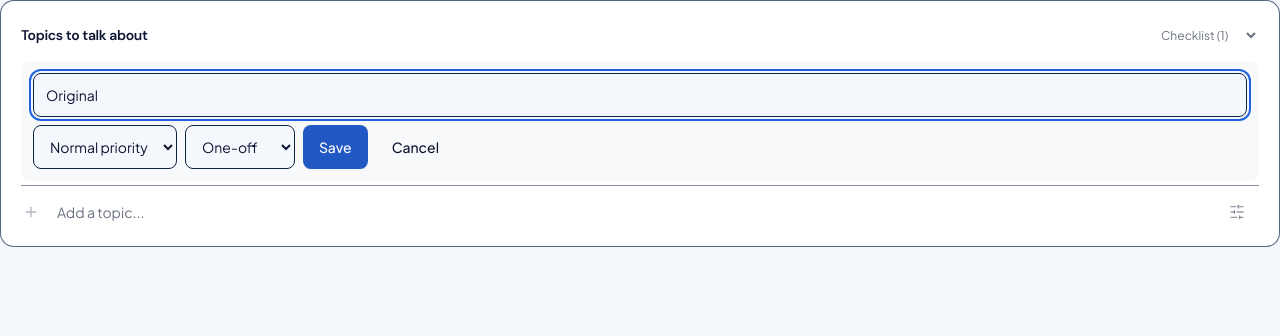
Test case: topics panel › edits title, priority, and repetition without losing failed edits
Earlier steps of the test are not shown.
Replace the text in the field named "Edit topic title" with "Updated" at (640, 95), box [33,73,1247,117]
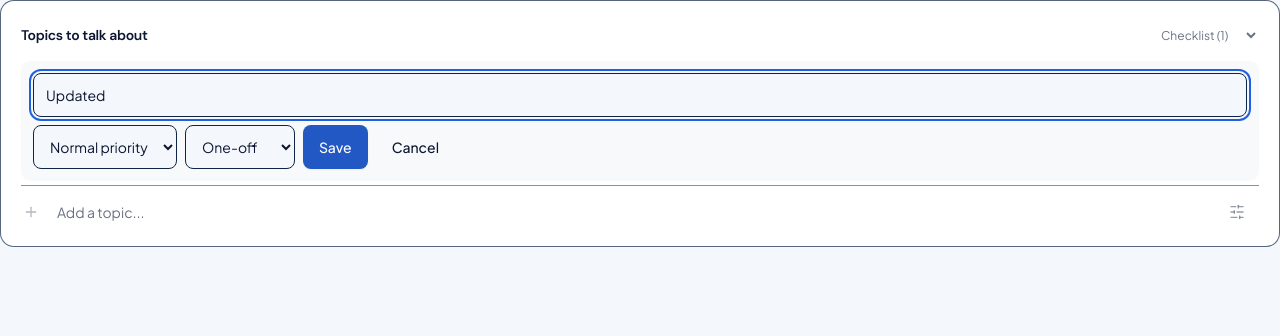
Select "High priority" in the dropdown named "Edit priority" at (105, 147), box [33,125,177,169]
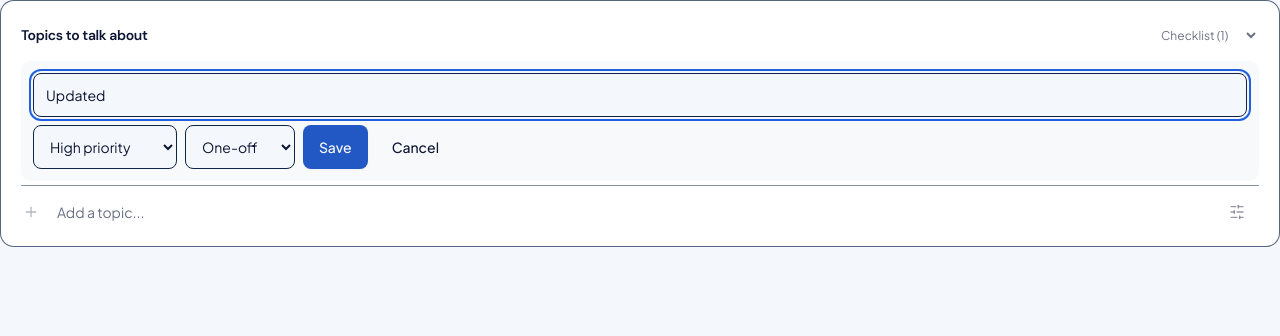
Select "Recurring" in the dropdown named "Edit repetition" at (240, 147), box [185,125,295,169]
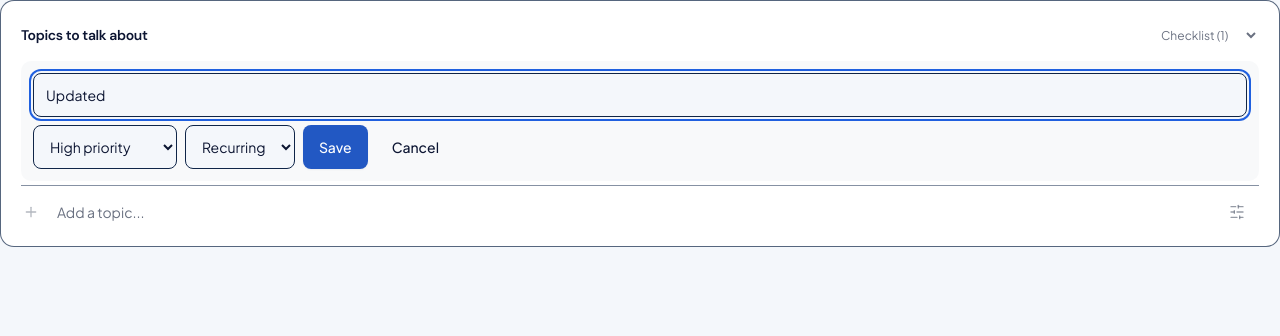
Click the button "Save" at (335, 147), box [303,125,368,169]
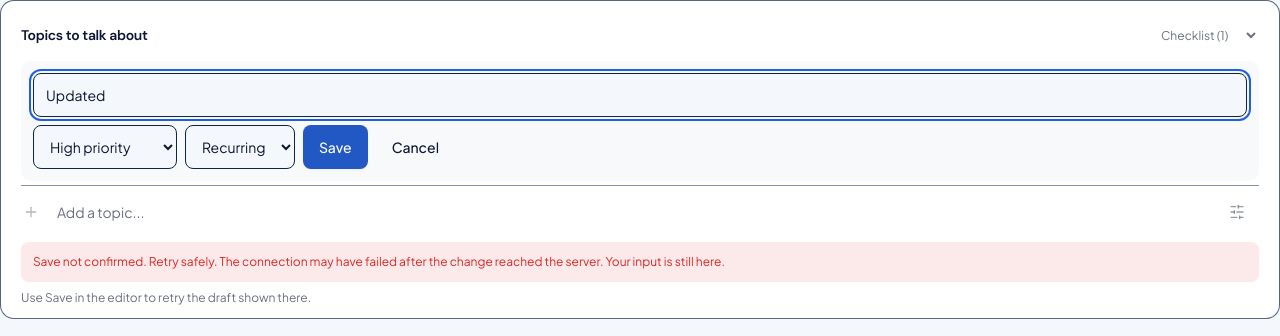
expect the message is shown: met, box [21,242,1259,282]
Click the button "Save" at (335, 147), box [303,125,368,169]
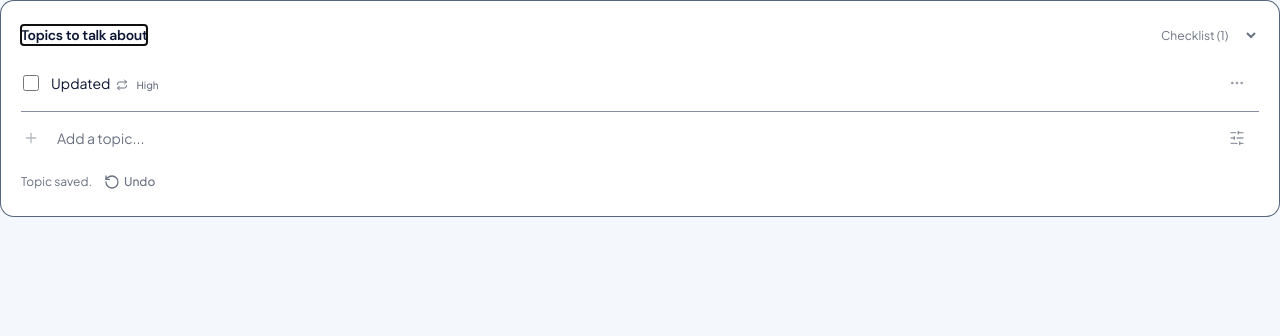
expect the text "Topic saved." is shown: met, box [21,174,92,190]
expect the text named "High priority" is shown: met, box [136,75,159,95]
